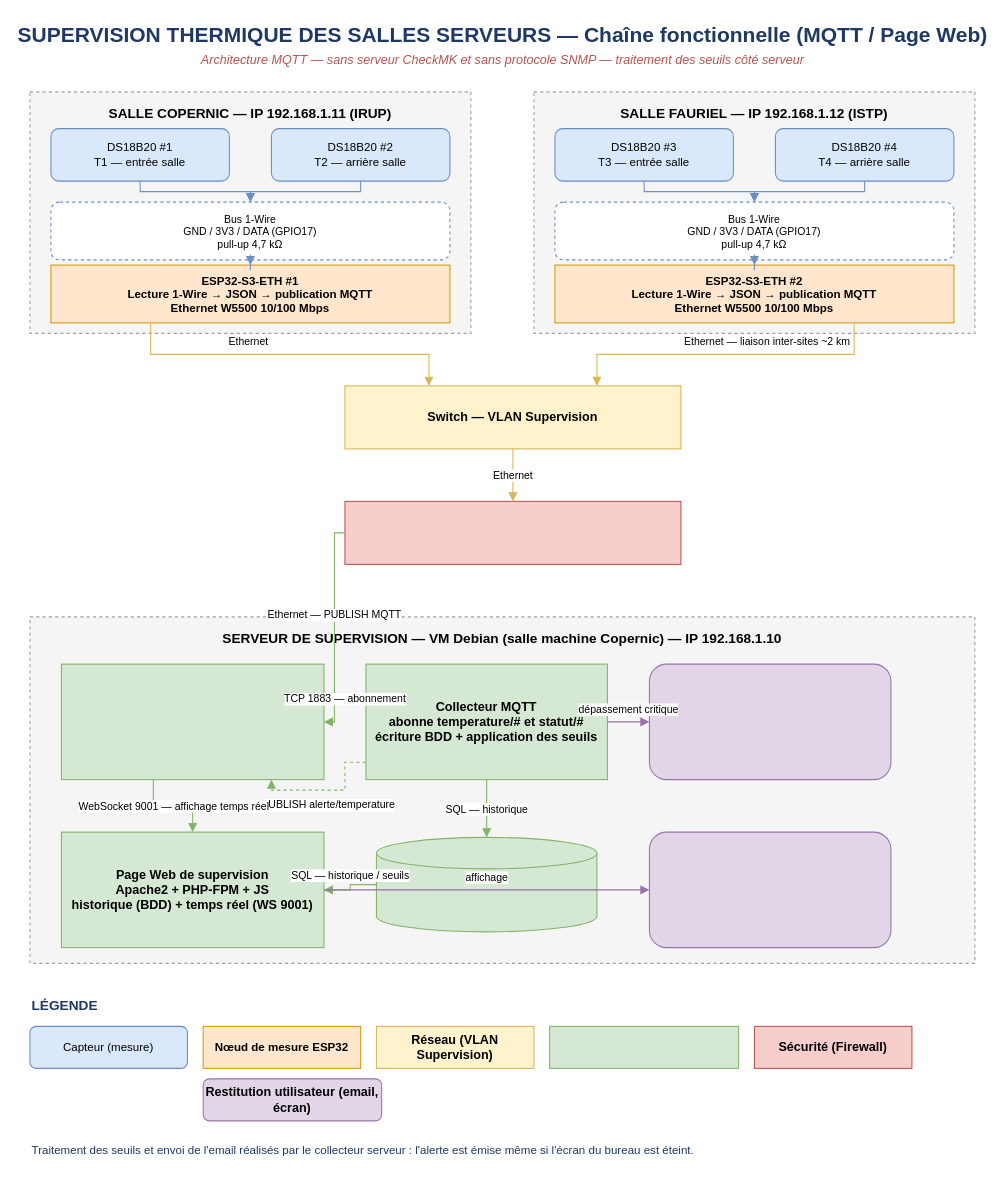
This 1005x1196 diagram has some shape labels left out. The centre of each missing label's shape, as x and y in pixels:
Alerte email Passerelle mail SMTP → Service informatique: (769,721)
BDD historique + utilisateurs: (486,884)
Broker MQTT Mosquitto TCP 1883 / WebSocket 9001 QoS 1 — retain activé: (192,721)
Firewall filtrage / cloisonnement VLAN Supervision: (512,532)
Supervision (broker, collecteur, page Web): (644,1046)
Écran bureau informatique: (769,889)
